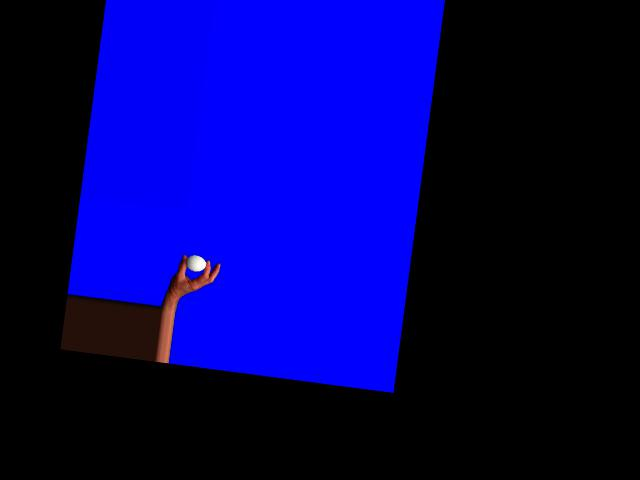egg: (184, 253, 207, 272)
